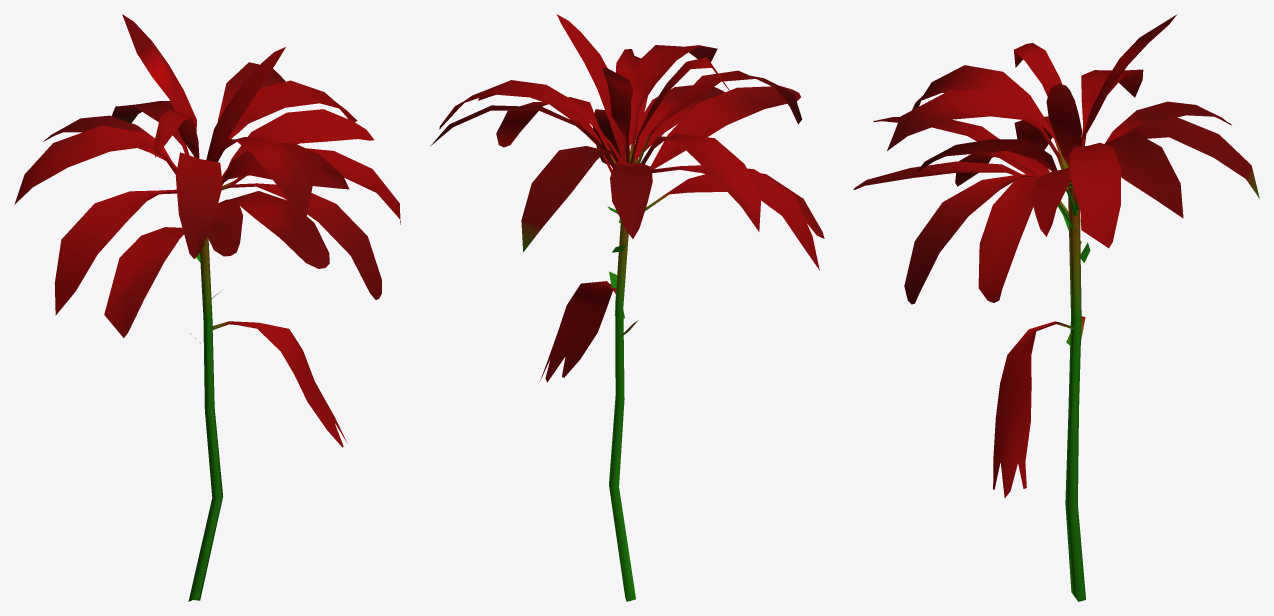
Rendered from Var4_LOD1.fbx.
The picture shows the model from 3 angles, left to right: view 1: azimuth 30°, elevation 25°; view 2: azimuth 150°, elevation 25°; view 3: azimuth 270°, elevation 25°; orthographic projection. The views are drawn at different scales.
Parts seen in each view (by area): view 1: _e670_Var4_LOD1; view 2: _e670_Var4_LOD1; view 3: _e670_Var4_LOD1.
Part boxes in pixels (x1,y1,x2,y2): _e670_Var4_LOD1: (14,14,400,601); _e670_Var4_LOD1: (430,14,824,601); _e670_Var4_LOD1: (853,14,1259,601).
Bounding box in the file's own units: 33.99 × 54.51 × 35.05.
